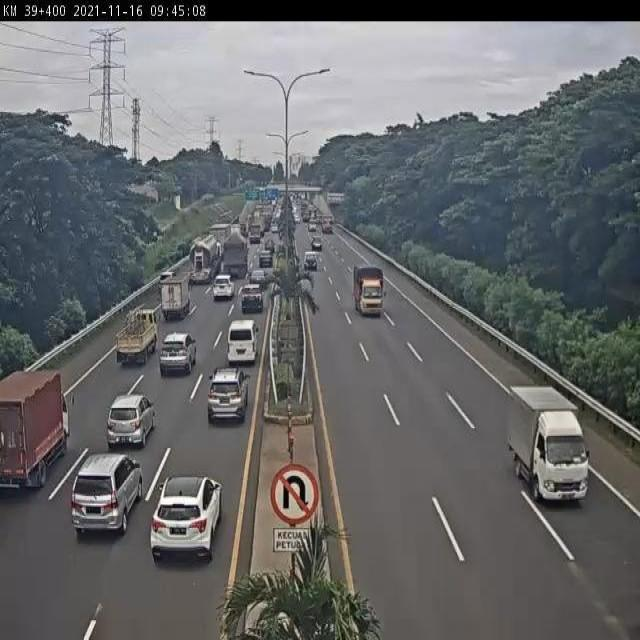Car: (150, 473, 223, 563), (70, 453, 142, 535), (106, 393, 156, 449), (207, 365, 251, 422), (159, 331, 198, 376), (240, 284, 264, 314), (212, 274, 235, 301), (158, 271, 176, 289), (250, 267, 267, 285), (258, 249, 274, 268), (310, 237, 322, 251), (264, 240, 276, 253), (308, 222, 317, 232), (293, 214, 301, 223), (271, 223, 278, 233)
Truck: (504, 378, 594, 506), (1, 369, 70, 490), (114, 309, 159, 367), (352, 264, 386, 318), (159, 271, 192, 322), (190, 234, 220, 284), (221, 227, 249, 279), (208, 223, 232, 251), (249, 212, 264, 241), (302, 250, 320, 272), (321, 213, 334, 235), (248, 223, 262, 243), (264, 214, 273, 233), (301, 209, 312, 223), (240, 220, 248, 237)
Van: (227, 319, 259, 365)
